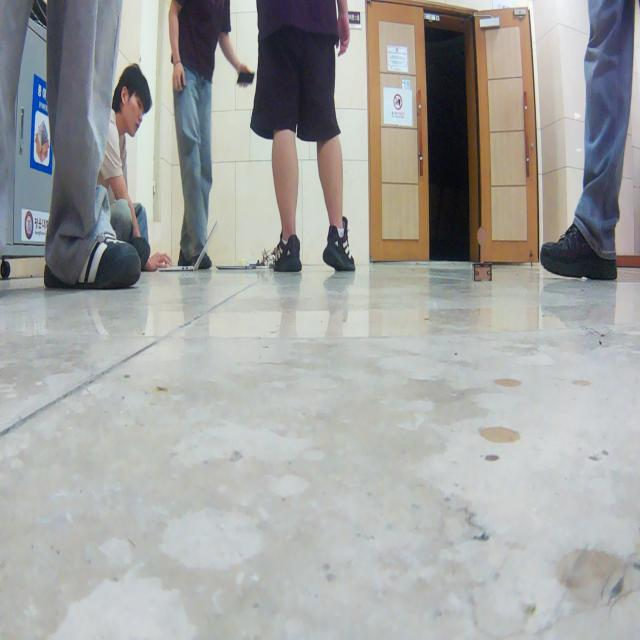target: (472, 225, 492, 282)
